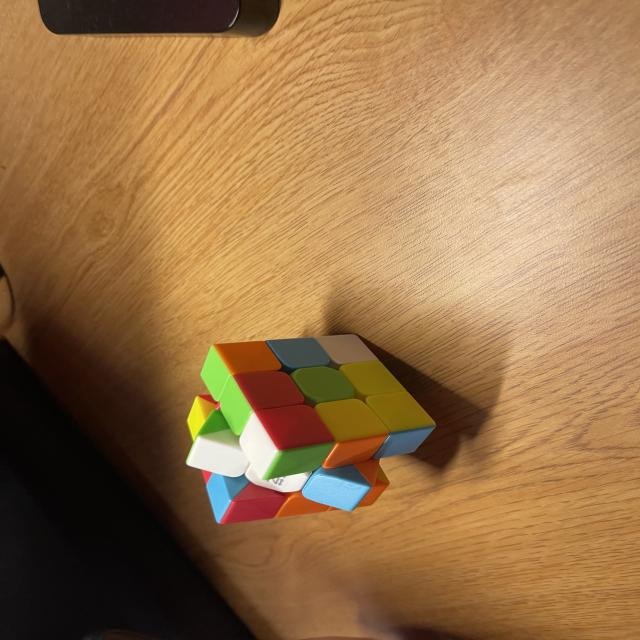Rubiks Cube: (183, 335, 437, 525)
